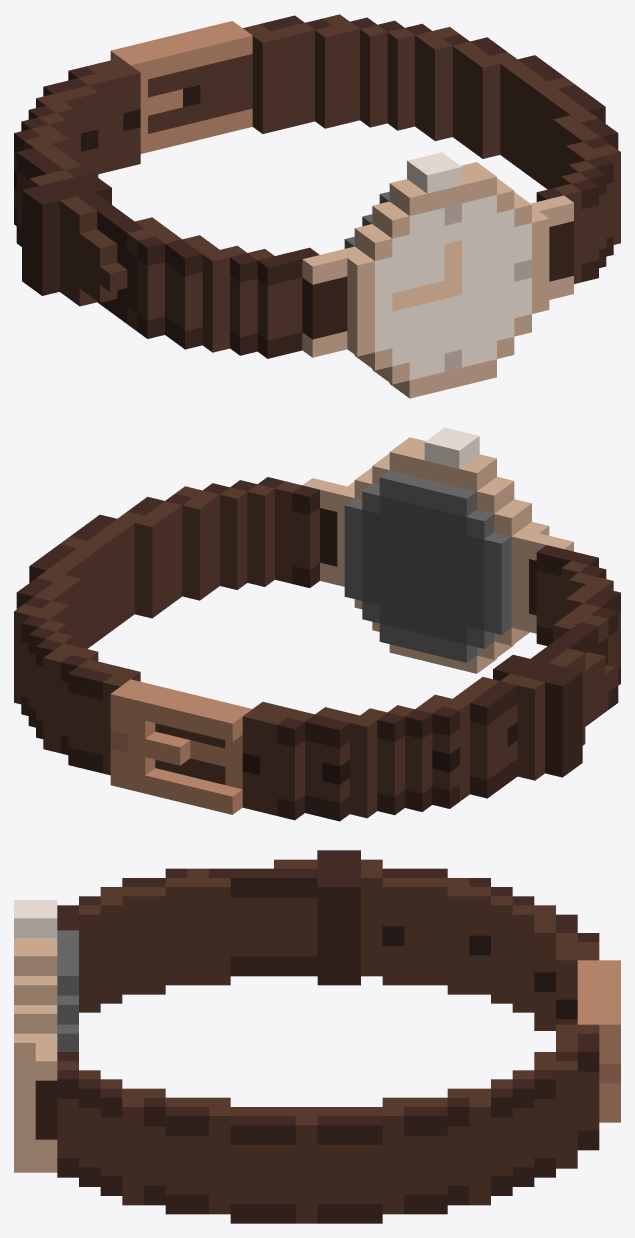
The model's file is watch.glb.
3 renders of one model, top to bottom at view 1: azimuth 30°, elevation 25°; view 2: azimuth 150°, elevation 25°; view 3: azimuth 270°, elevation 25°, orthographic. The views are drawn at different scales.
Parts seen in each view (by area): view 1: watch.vox; view 2: watch.vox; view 3: watch.vox.
Boxes of the visible parts, box(x1,y1,x2,y2) form: watch.vox: box(14, 14, 620, 398); watch.vox: box(14, 427, 620, 821); watch.vox: box(14, 850, 620, 1223).
Bounding box in the file's own units: 3 × 1.2 × 2.8.
1 material, 1 textured.
